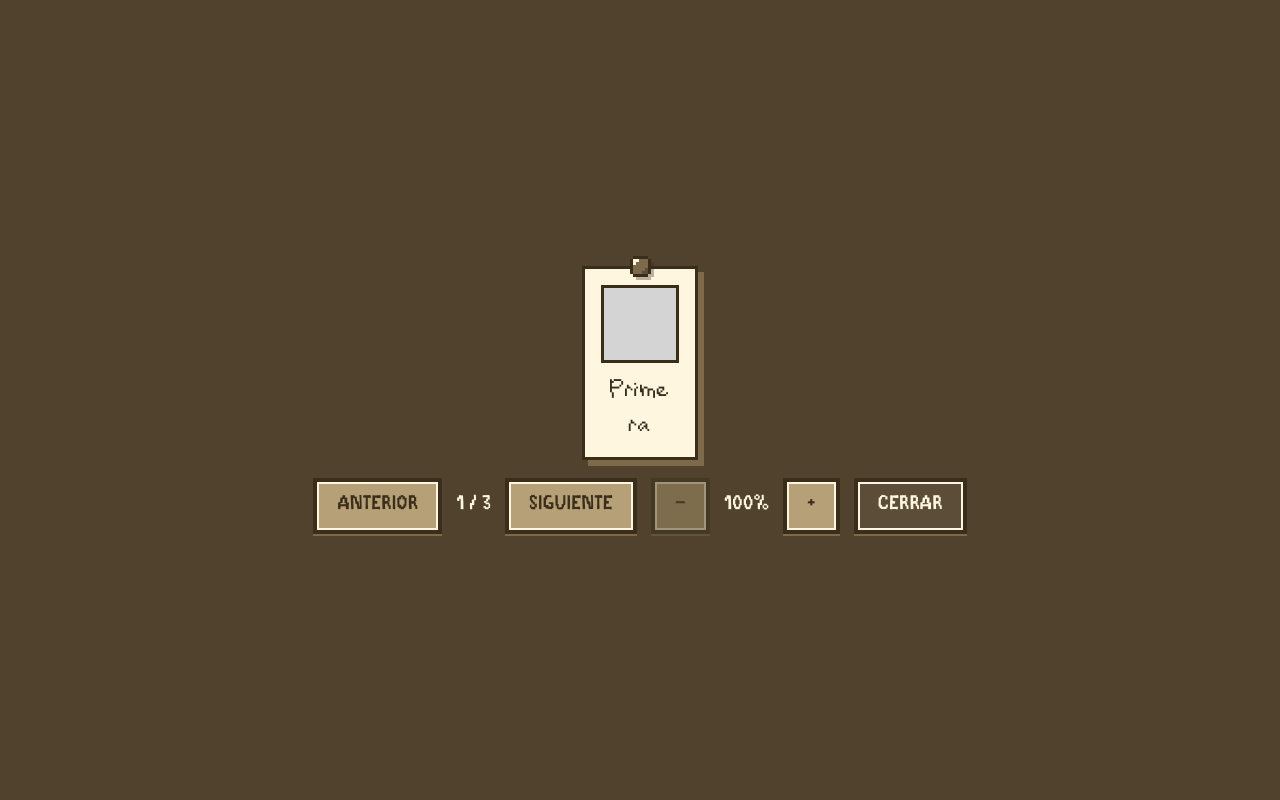
goes back to fitted when the image changes
The width and height of the screenshot is (1280, 800).
What coordinates should you click on to do the following:
click the button named "Acercar"
I would click on:
 (811, 506)
Its box is 783,478 -> 840,534.
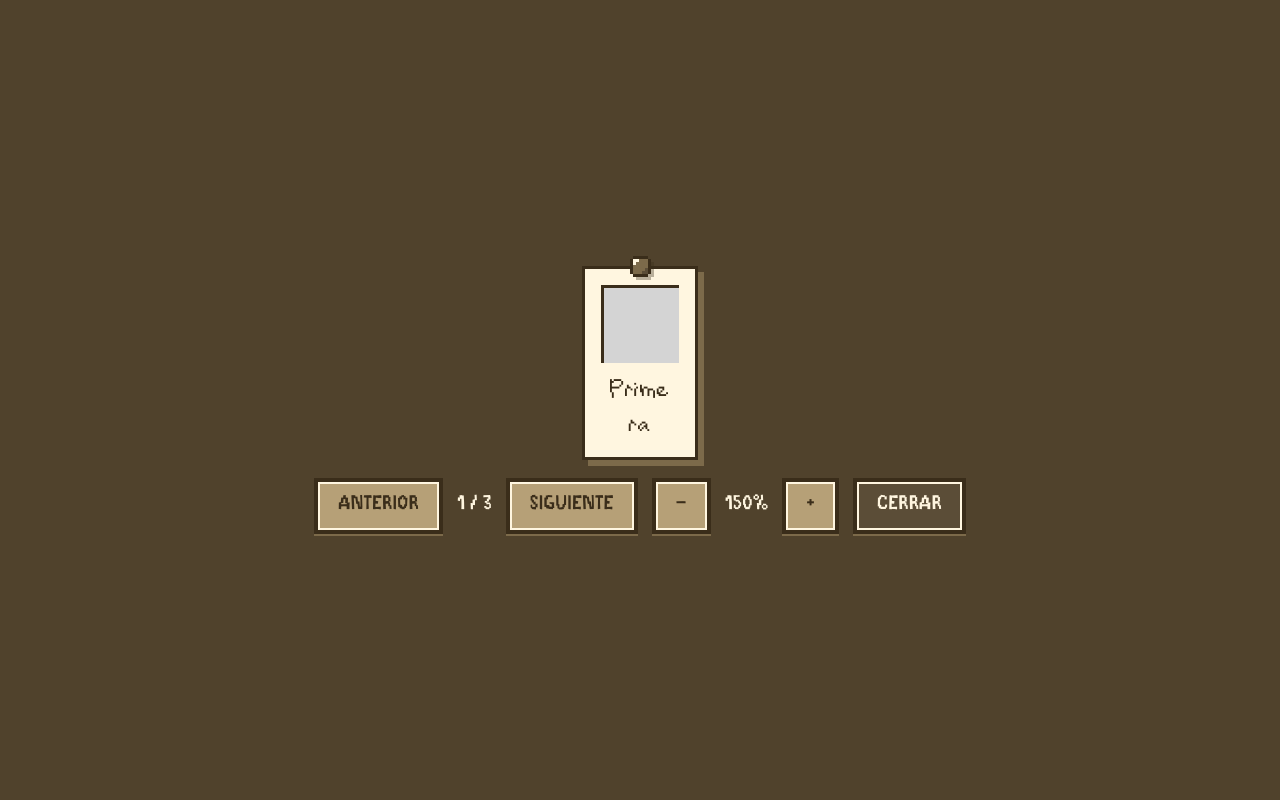
What coordinates should you click on to do the following:
click the button "Siguiente"
I would click on:
 (572, 506)
Its box is 506,478 -> 638,534.
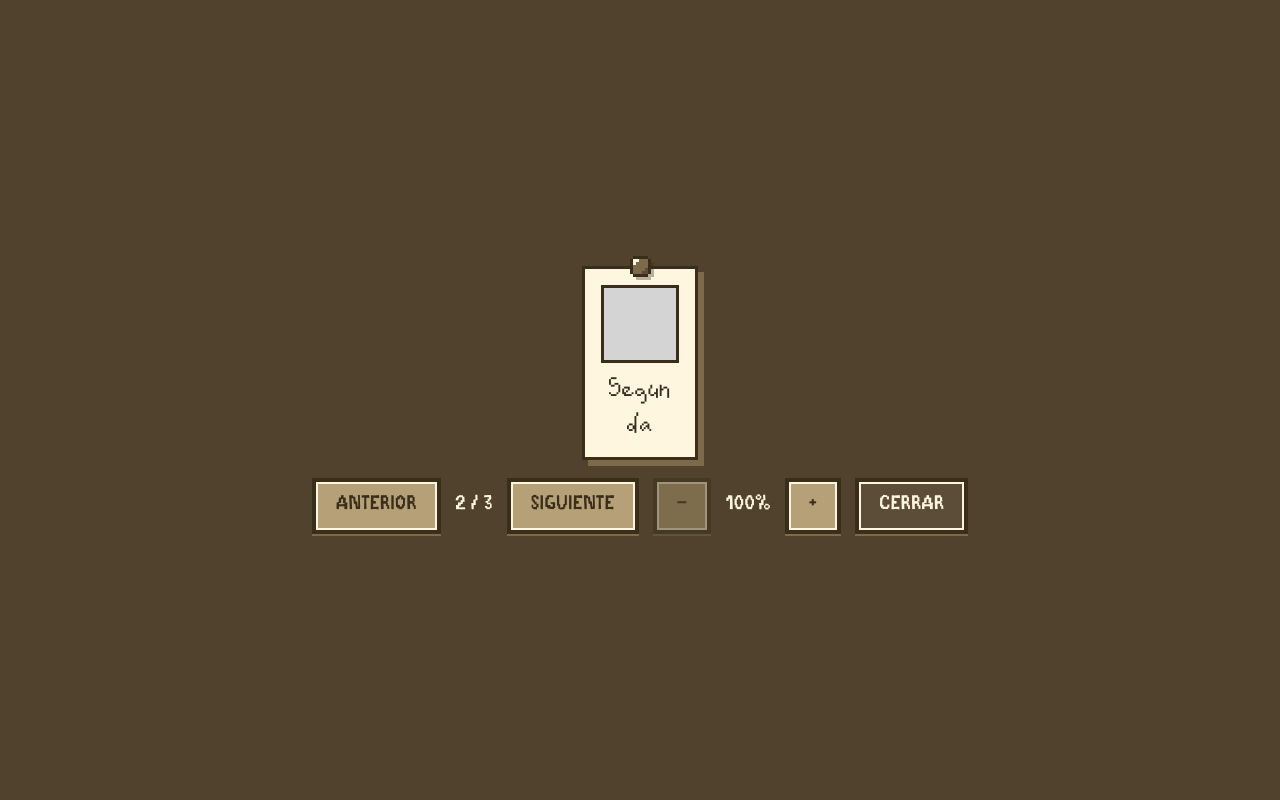
Result: the text "100%" is shown at 725,491 -> 770,521
